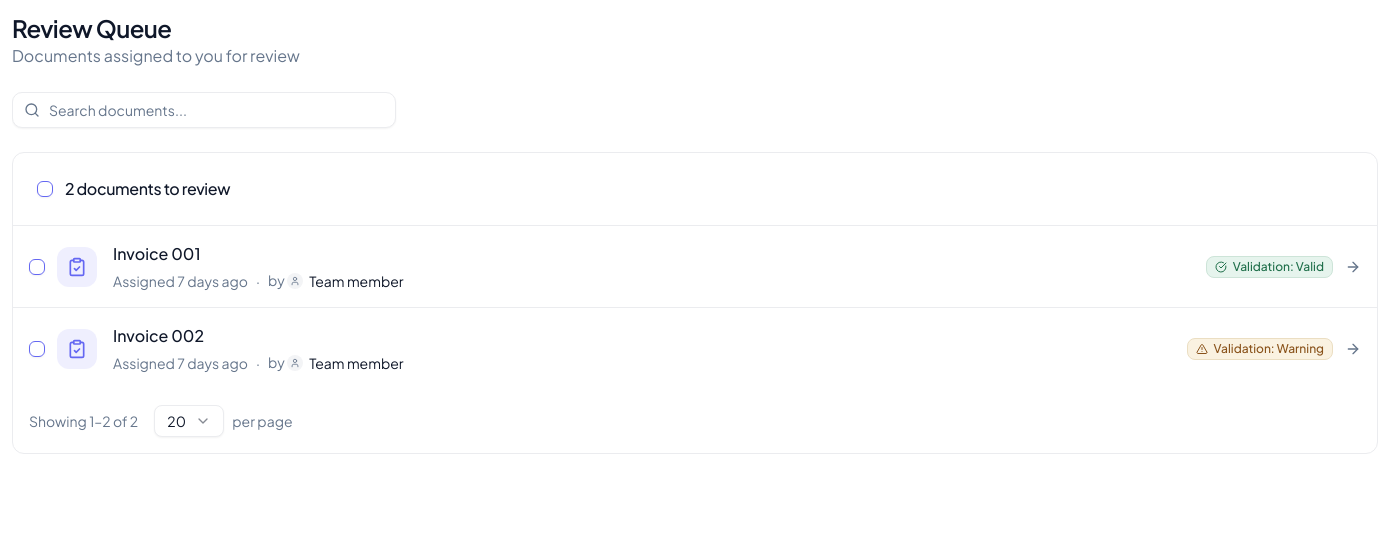
ReviewQueuePage › shows bulk actions bar with approve and reject but no delete
Click the checkbox named "Select all documents" at (45, 189), box [37,181,53,197]
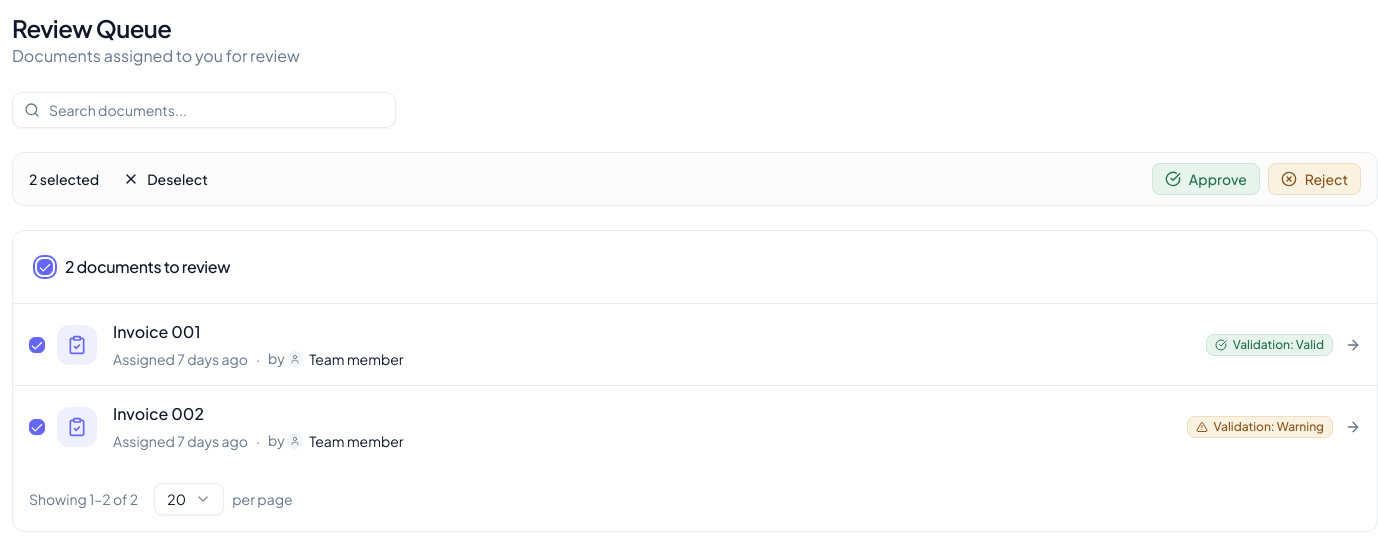
Expected: the button "Approve" is shown, [1152,163,1260,195]
Expected: the button "Reject" is shown, [1268,163,1361,195]
